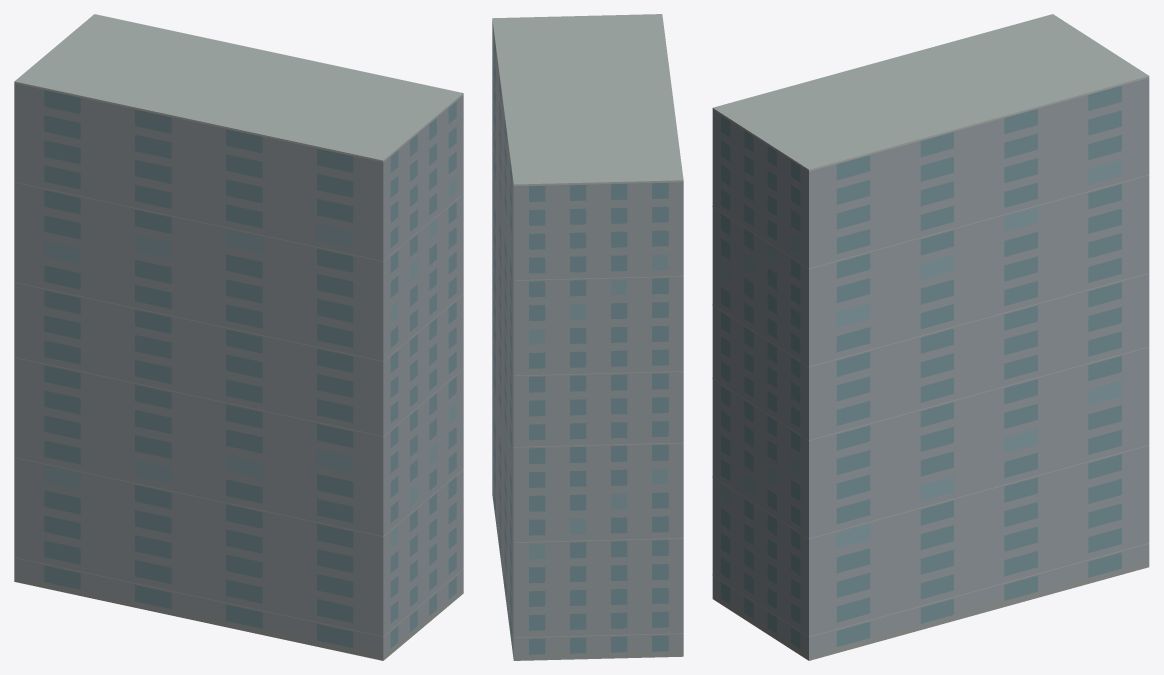
File: survey-upis-33020336.glb
3 renders of one model, left to right at view 1: azimuth 30°, elevation 25°; view 2: azimuth 150°, elevation 25°; view 3: azimuth 270°, elevation 25°, orthographic. The views are drawn at different scales.
Parts seen in each view (by area): view 1: survey-upis-33020336.tmp; view 2: survey-upis-33020336.tmp; view 3: survey-upis-33020336.tmp.
Boxes of the visible parts, left/top/right/bottom form: survey-upis-33020336.tmp: left=14, top=14, right=463, bottom=660; survey-upis-33020336.tmp: left=492, top=14, right=683, bottom=660; survey-upis-33020336.tmp: left=712, top=14, right=1149, bottom=660.
Bounding box in the file's own units: 44.96 × 66.1 × 53.29.
